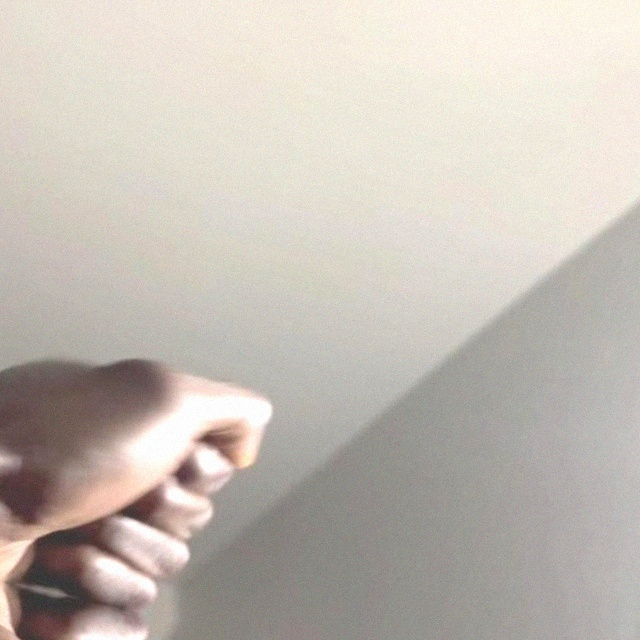Rock: (0, 312, 287, 633)
